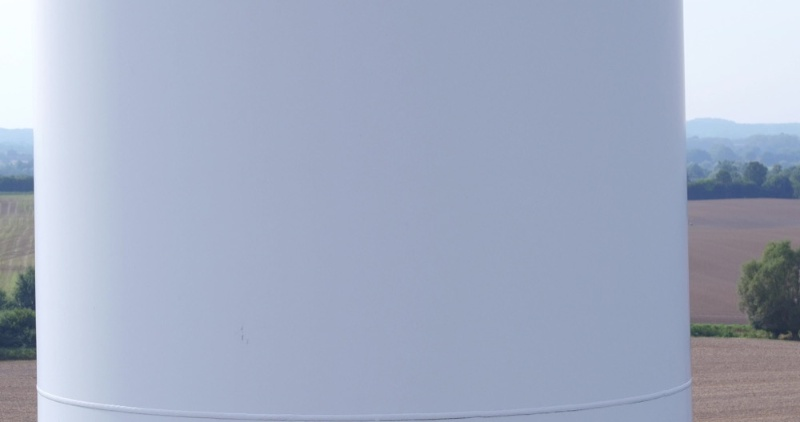weldseam: (35, 374, 693, 422)
